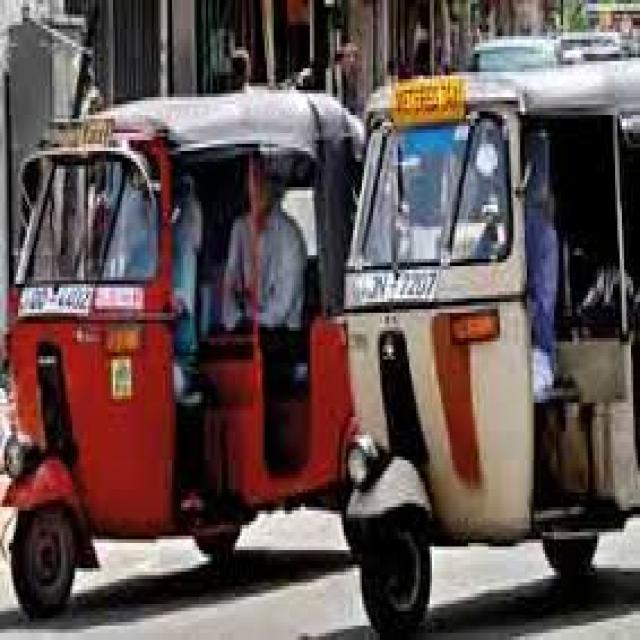person: (222, 201, 305, 331), (527, 129, 556, 356), (174, 176, 201, 352)
three wheeler: (2, 90, 362, 615), (344, 61, 638, 633)
